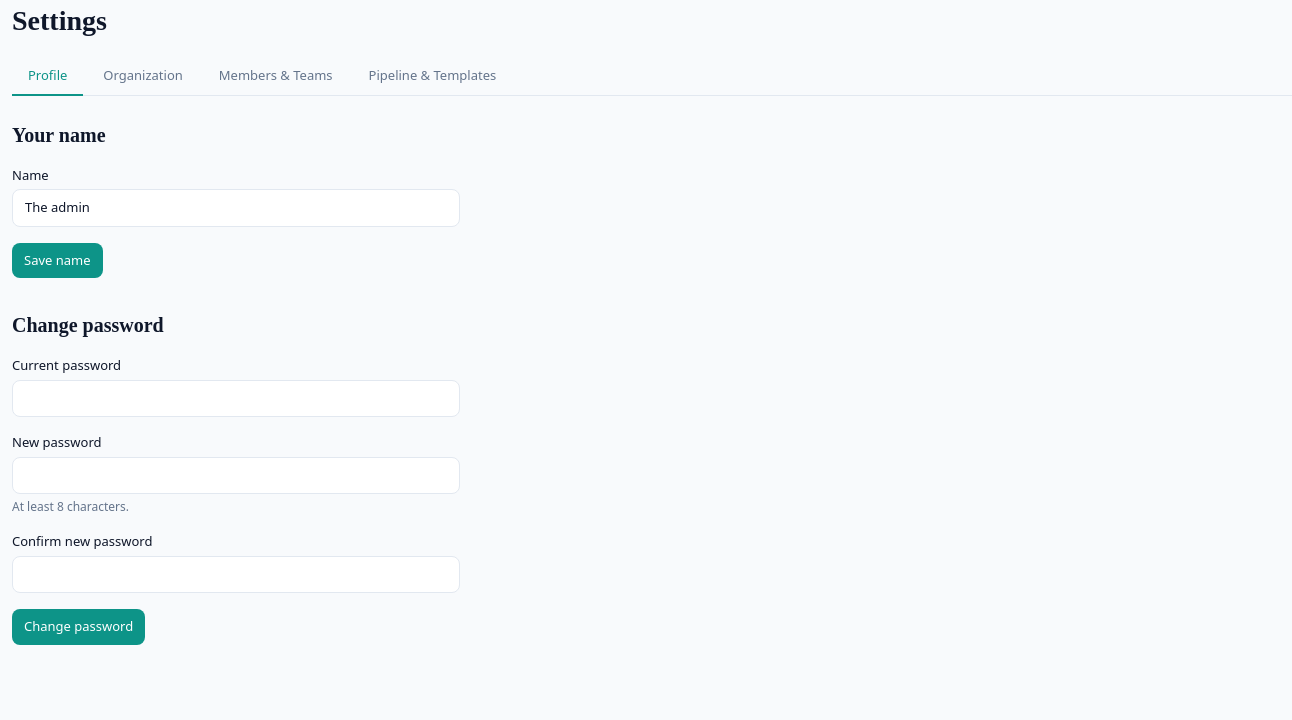
Test: Settings: Organization tab (org:manage) › admin can rename the org: false
Click the button "Organization" at point(143, 77), box [87,58,199,96]
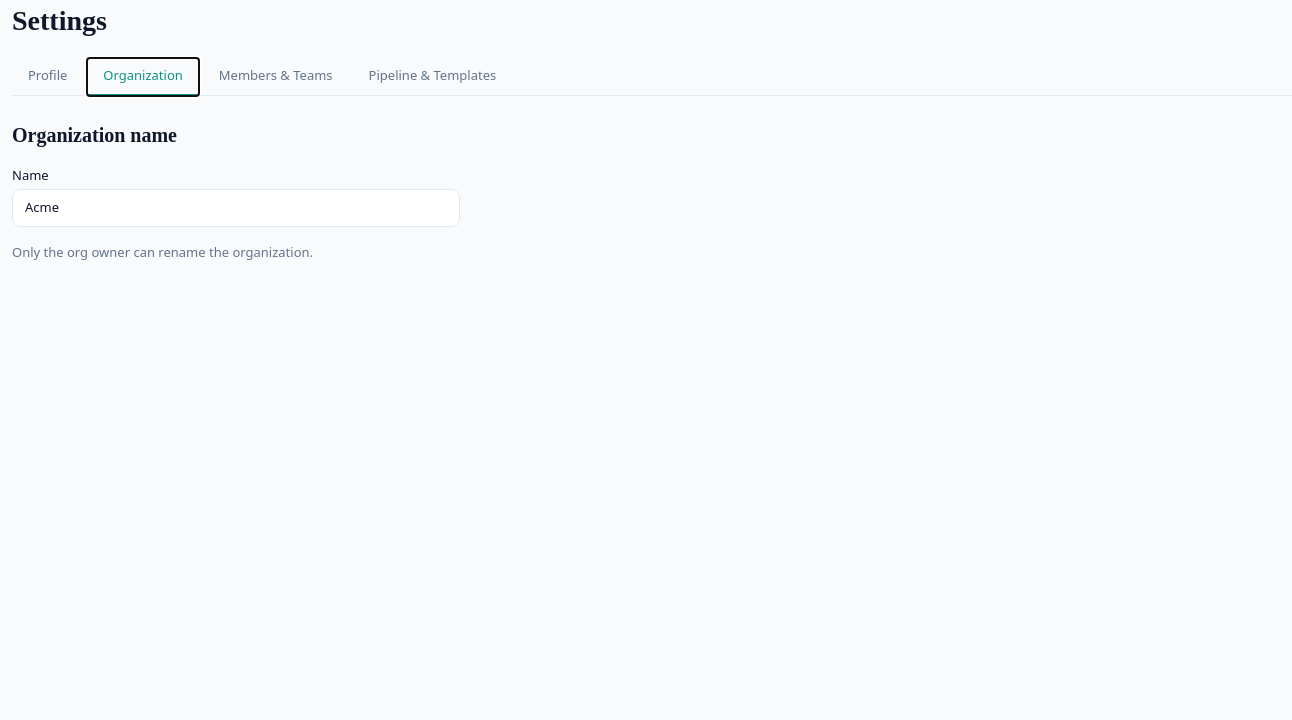
Now the field showing "Acme" is disabled, box [12,189,460,226]
